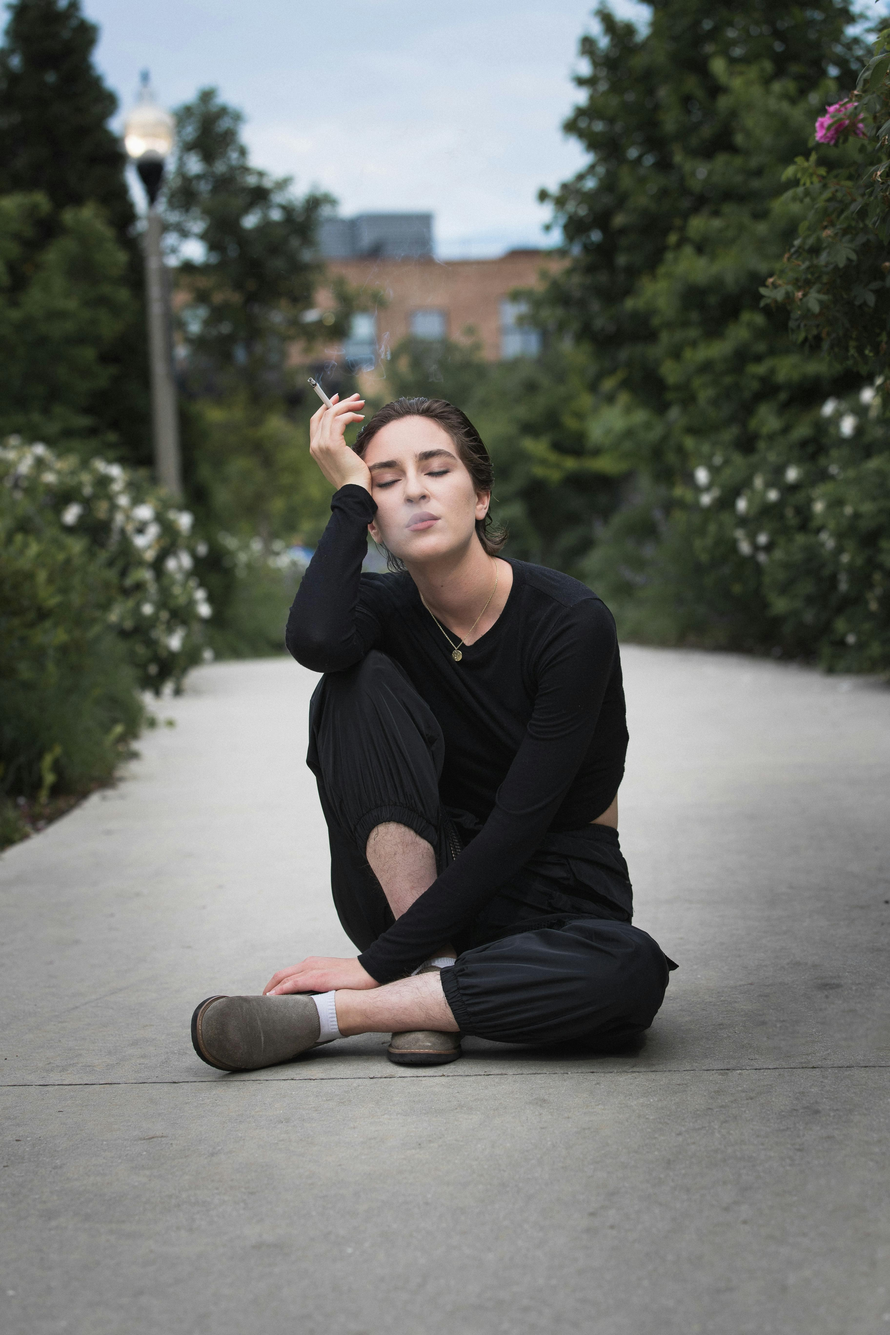smoker: (171, 283, 779, 1141)
